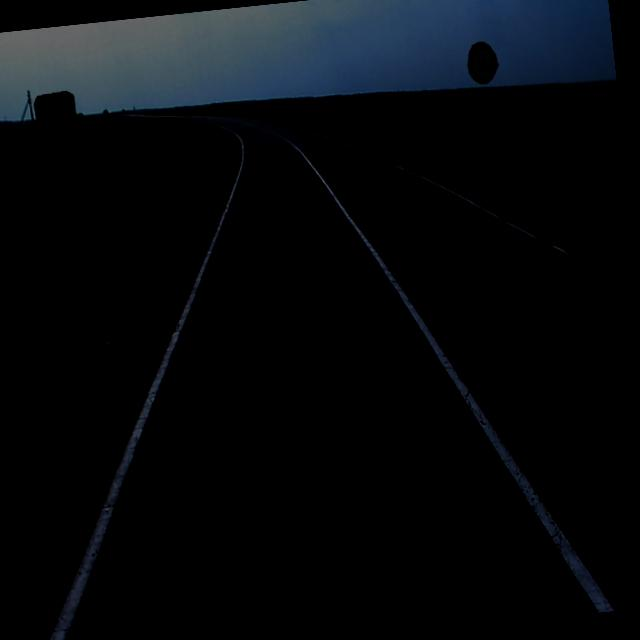road: (19, 113, 640, 640)
